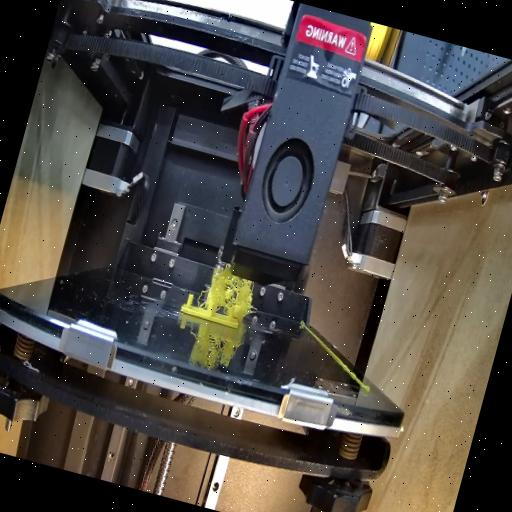spaghetti: (195, 258, 263, 322)
